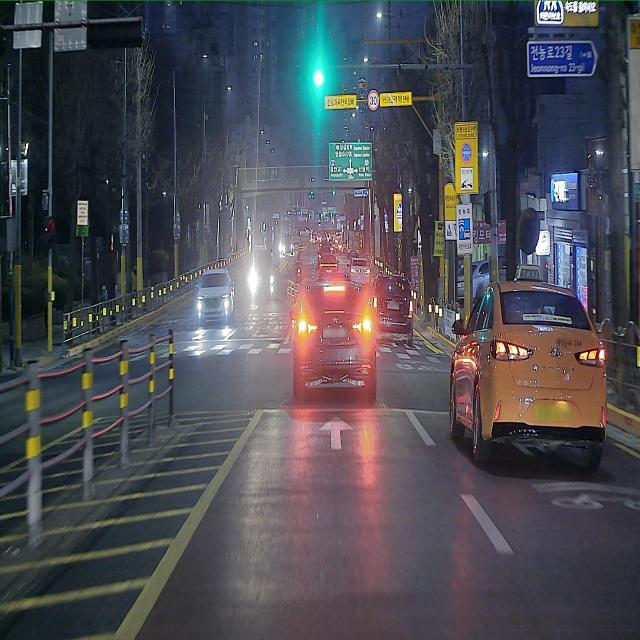Green Light: (313, 70, 324, 87)
